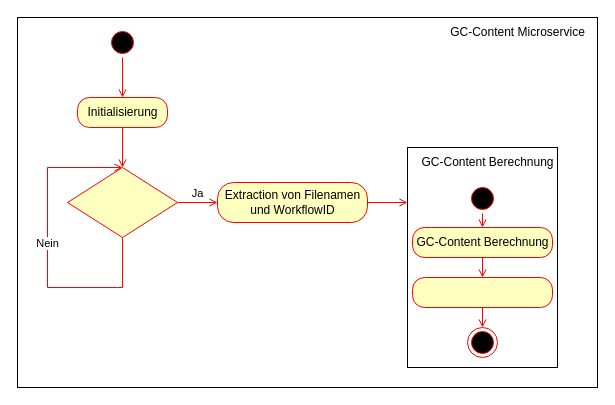
This 615x405 diagram has some shape labels left out. Each missing label, with the centre of its shape:
Kafka Event?: point 122,202
Success Event in Kafka Topic: point 482,292
